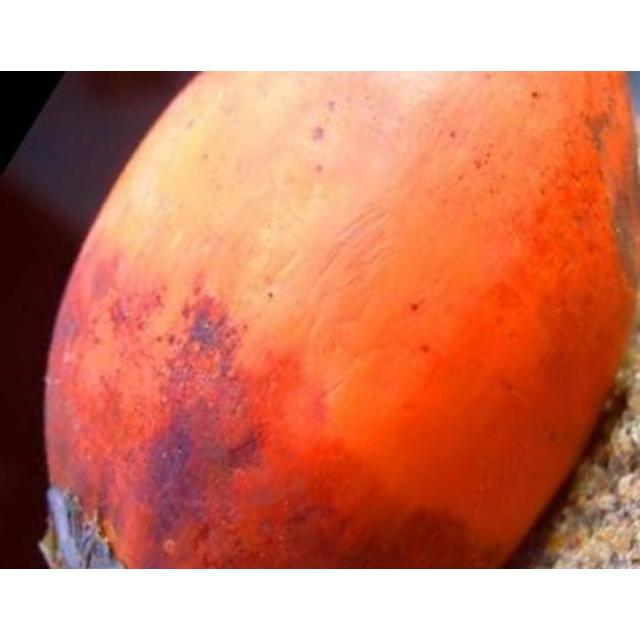good: (36, 71, 639, 568)
